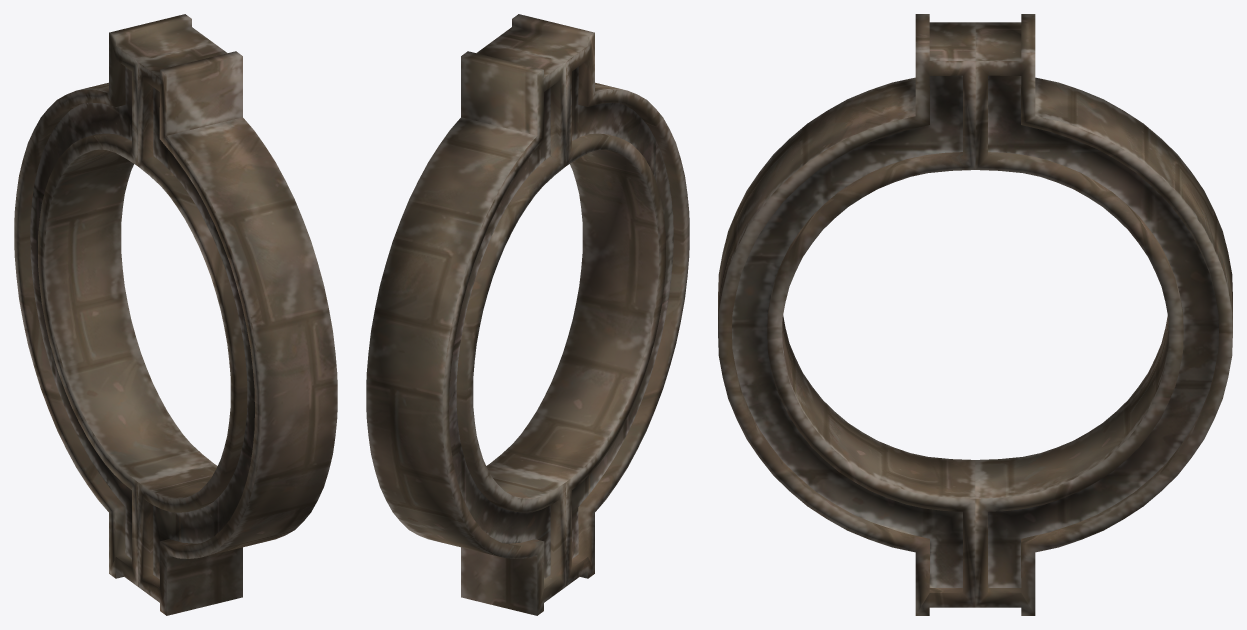
The model's file is arco 1.fbx.
The picture shows the model from 3 angles, left to right: view 1: azimuth 30°, elevation 25°; view 2: azimuth 150°, elevation 25°; view 3: azimuth 270°, elevation 25°; orthographic projection. The views are drawn at different scales.
Parts seen in each view (by area): view 1: arco 1; view 2: arco 1; view 3: arco 1.
Boxes of the visible parts, bbox=[...] form: arco 1: bbox=[14, 14, 337, 615]; arco 1: bbox=[366, 14, 689, 615]; arco 1: bbox=[718, 14, 1232, 615].
Bounding box in the file's own units: 28.61 × 194 × 161.
1 material, 1 textured.
